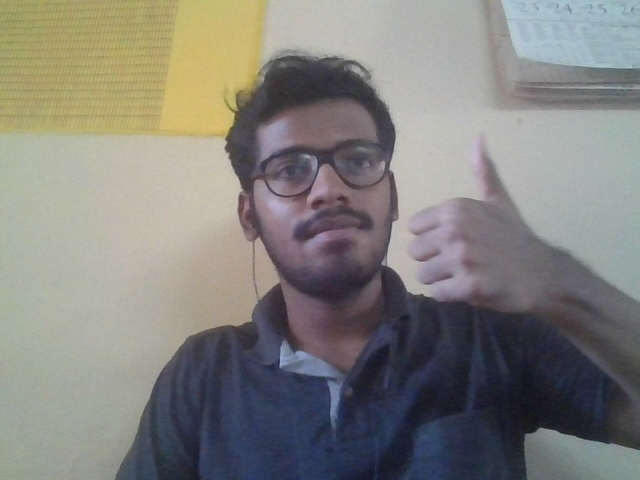ThumbsUp: (409, 128, 559, 314)
